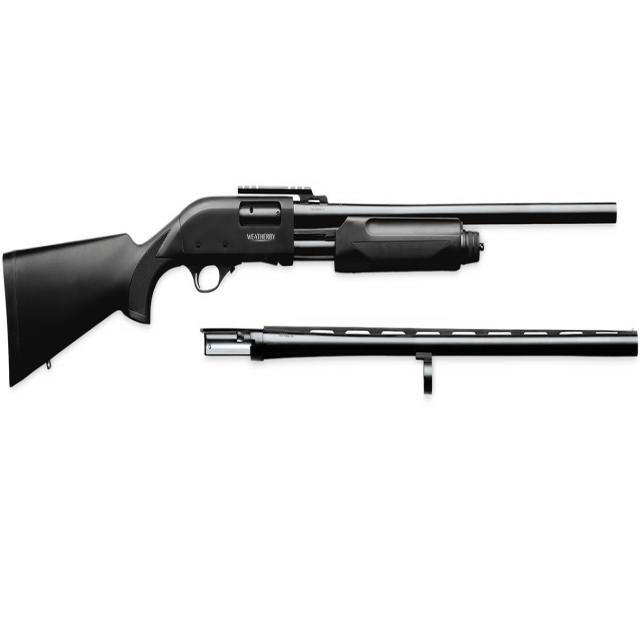gun: (2, 174, 640, 454)
